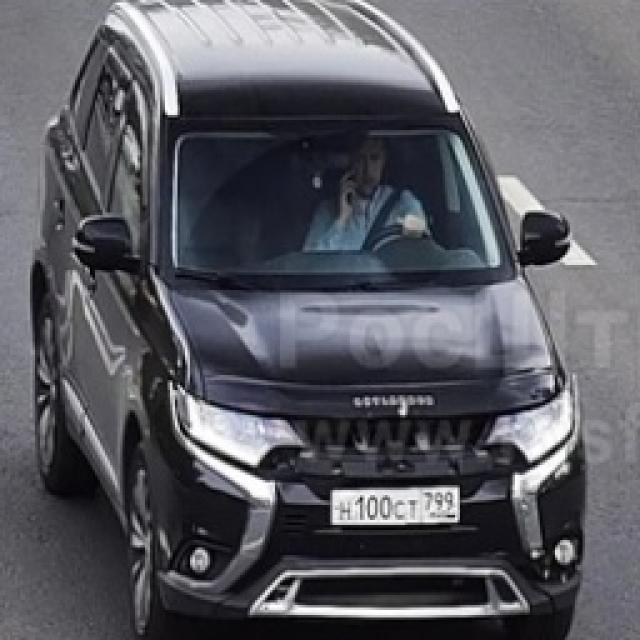windshield: (168, 113, 514, 291)
